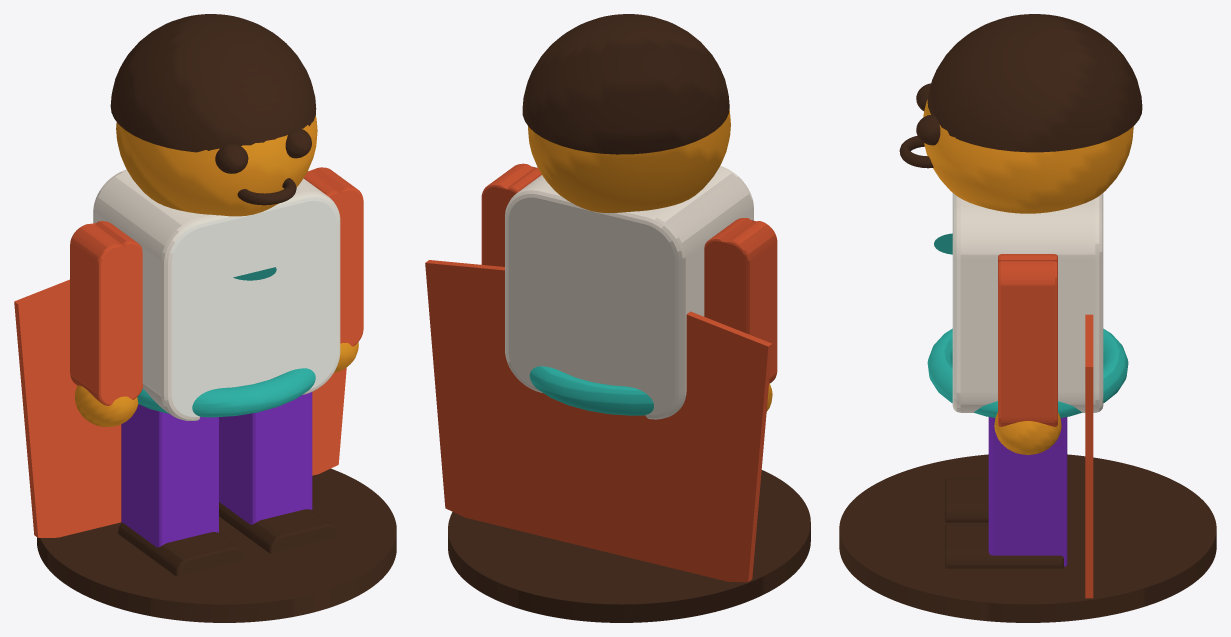
File: 1309_中国古代寓言_庖丁.glb
The picture shows the model from 3 angles, left to right: view 1: azimuth 30°, elevation 25°; view 2: azimuth 150°, elevation 25°; view 3: azimuth 270°, elevation 25°; orthographic projection.
Parts seen in each view (by area): view 1: card_1309; view 2: card_1309; view 3: card_1309.
Part boxes in pixels (box(x1,y1,x2,y2)): card_1309: box(14, 14, 396, 622); card_1309: box(425, 14, 810, 622); card_1309: box(839, 14, 1216, 622).
Size of the model in its own units: 0.6739 by 1 by 0.64.
